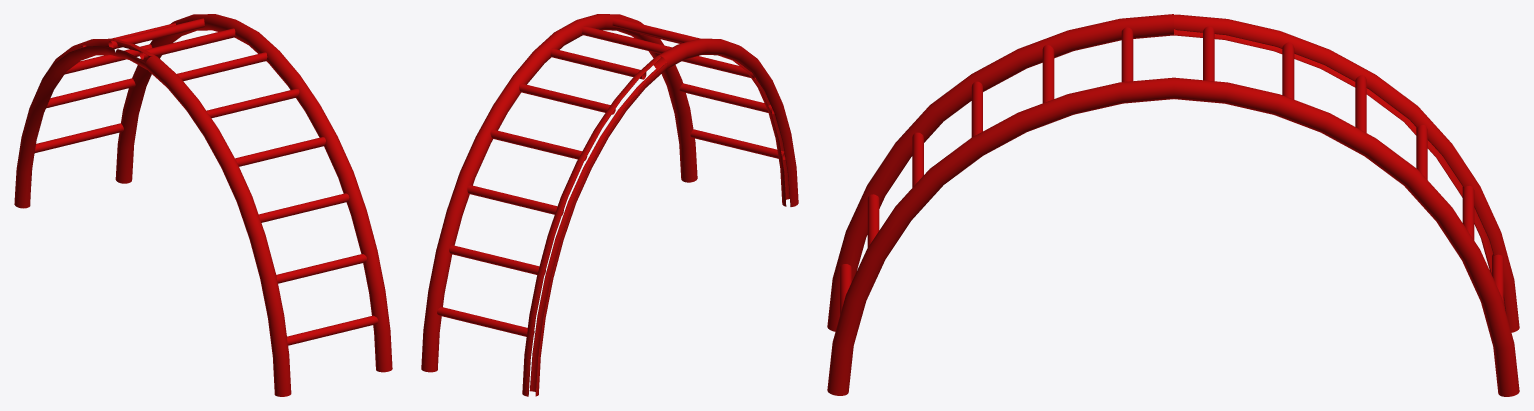
File: SomethingToClimbToo.fbx
3 views of the same model, side by side, from view 1: azimuth 30°, elevation 25°; view 2: azimuth 150°, elevation 25°; view 3: azimuth 270°, elevation 25° (orthographic). The views are drawn at different scales.
Parts seen in each view (by area): view 1: Cylinder.003, Cylinder.004; view 2: Cylinder.003, Cylinder.004; view 3: Cylinder.003, Cylinder.004.
Boxes of the visible parts, bbox=[...] form: Cylinder.003: bbox=[14, 14, 392, 396]; Cylinder.004: bbox=[34, 18, 378, 345]; Cylinder.003: bbox=[421, 14, 798, 396]; Cylinder.004: bbox=[437, 17, 785, 336]; Cylinder.003: bbox=[827, 14, 1519, 396]; Cylinder.004: bbox=[840, 26, 1503, 314].
Size of the model in its own units: 68.57 by 138 by 276.
Materials: 2 (1 with a texture image).
